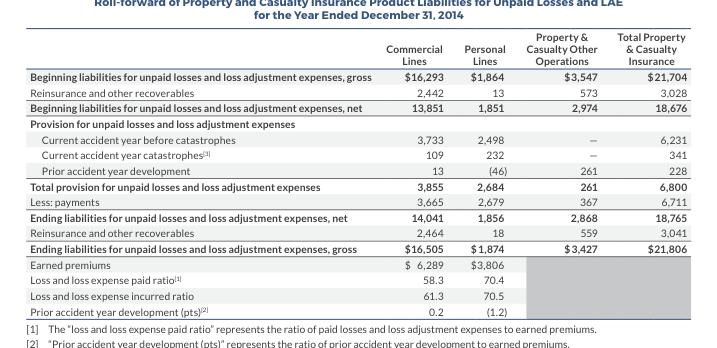table: (29, 29, 686, 316)
table column: (29, 29, 377, 316), (515, 29, 606, 316), (606, 29, 686, 316), (377, 29, 453, 316), (453, 29, 515, 316)
table column header: (29, 29, 686, 68)
table projected row header: (29, 115, 686, 130)
table row: (29, 29, 686, 68), (29, 83, 686, 99), (29, 99, 686, 115), (29, 130, 686, 146), (29, 146, 686, 162), (29, 177, 686, 193), (29, 193, 686, 209), (29, 224, 686, 240), (29, 255, 686, 271), (29, 271, 686, 287), (29, 68, 686, 83), (29, 115, 686, 130), (29, 162, 686, 177), (29, 209, 686, 224), (29, 240, 686, 255), (29, 287, 686, 302), (29, 302, 686, 316)
